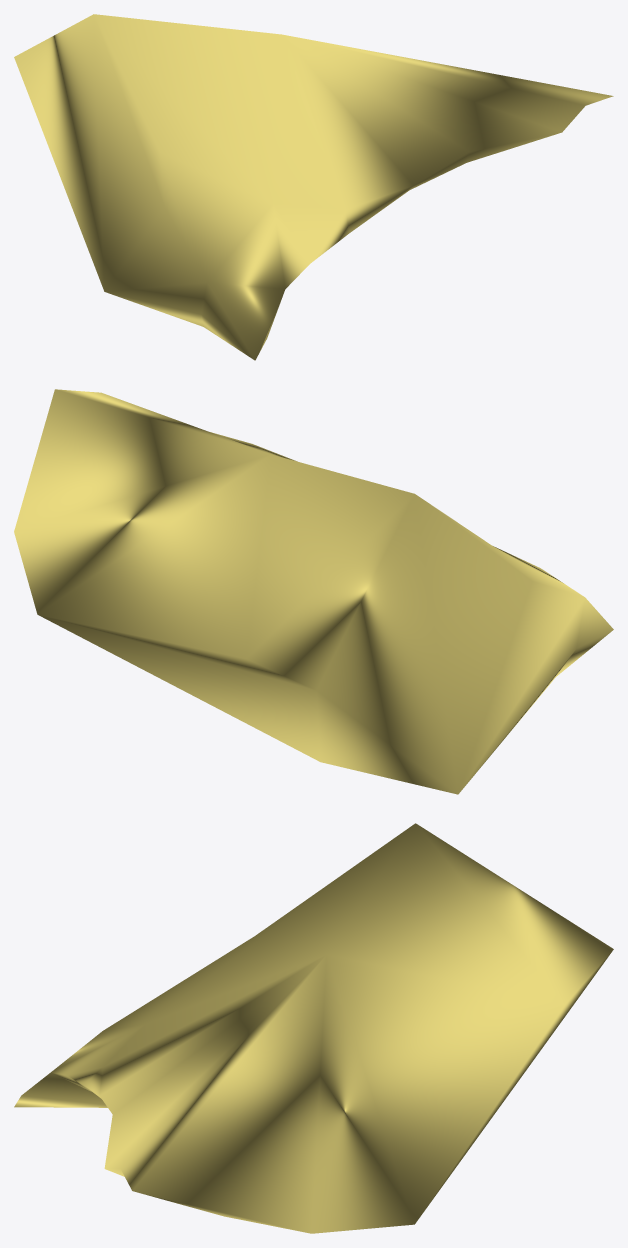
The model's file is interpeduncular-fossa-l.glb.
The picture shows the model from 3 angles, top to bottom: view 1: azimuth 30°, elevation 25°; view 2: azimuth 150°, elevation 25°; view 3: azimuth 270°, elevation 25°; orthographic projection. The views are drawn at different scales.
Parts seen in each view (by area): view 1: Interpeduncular fossa.l; view 2: Interpeduncular fossa.l; view 3: Interpeduncular fossa.l.
Part boxes in pixels (x1,y1,x2,y2): Interpeduncular fossa.l: (14, 14, 613, 360); Interpeduncular fossa.l: (14, 389, 613, 794); Interpeduncular fossa.l: (14, 823, 613, 1233).
Bounding box in the file's own units: 0.00231 × 0.00136 × 0.0023.
